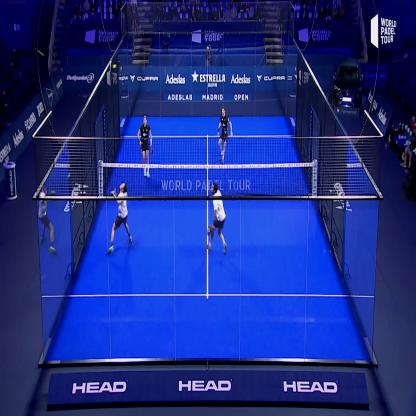ball: (110, 61, 121, 73)
